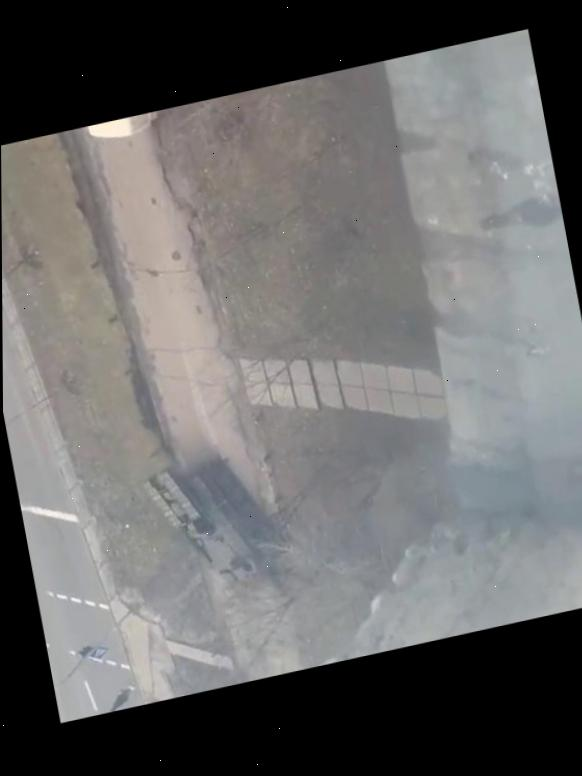person: (105, 682, 138, 712)
tank: (140, 444, 283, 599)
